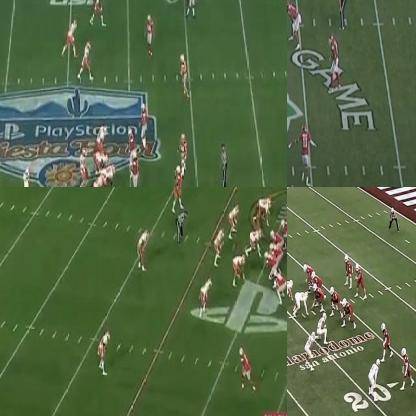CENTER: (311, 283, 325, 310), (100, 163, 116, 186), (269, 231, 282, 248)
DB: (328, 34, 342, 90), (96, 327, 111, 376), (300, 124, 311, 184), (137, 230, 150, 274), (146, 15, 156, 60), (305, 330, 317, 366), (180, 54, 189, 95), (370, 358, 379, 397), (173, 187, 185, 212), (187, 0, 197, 16)
LB: (287, 0, 301, 47), (199, 277, 212, 319), (176, 134, 189, 168), (214, 226, 224, 268), (230, 200, 241, 238), (170, 161, 183, 186)
QB: (77, 145, 89, 186), (354, 262, 366, 298)
SKILL: (240, 348, 255, 392), (398, 348, 414, 386), (272, 268, 287, 304), (93, 0, 106, 31), (382, 323, 393, 358), (65, 21, 76, 55), (82, 42, 90, 78), (344, 254, 353, 284), (22, 166, 33, 186)
